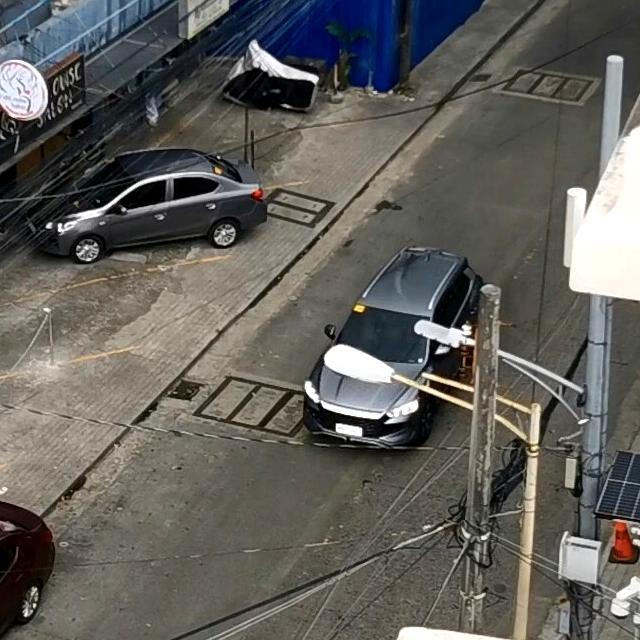Car: (302, 247, 476, 443), (32, 147, 260, 264)
